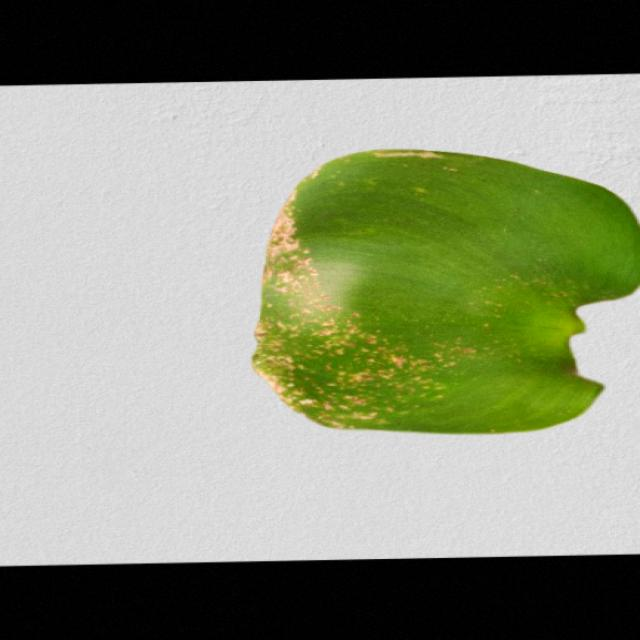daun berpenyakit bercak: (255, 151, 638, 434)
